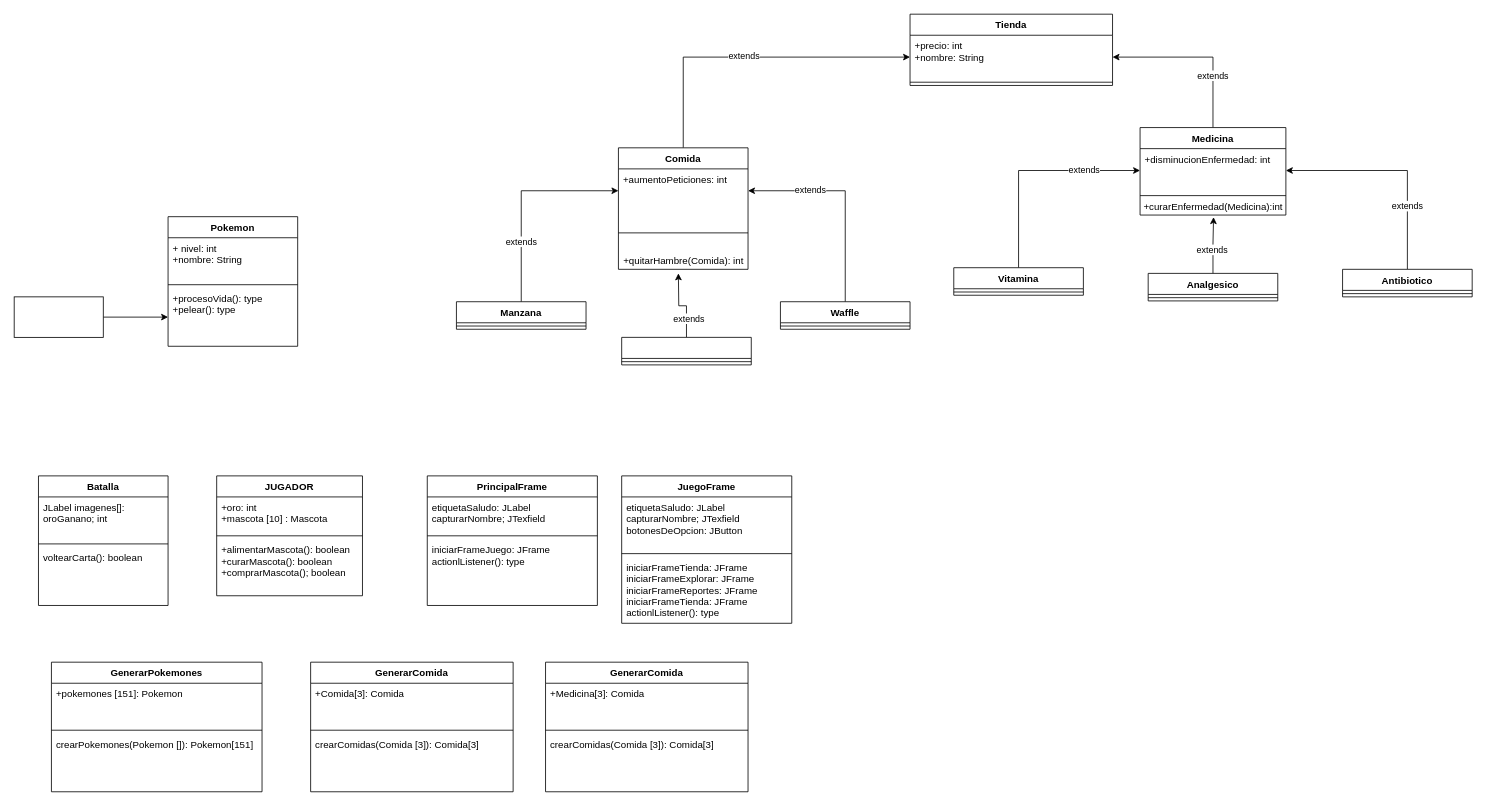
Image size: 1486x808. Some labels were removed from this diagram. The shapes that lost their labels are listed below. From the top down, each one's centre as x and y in pixels, then its label:
At point 58,316: "«interface» ProcesoVida".
At point 686,351: "Cereal".
